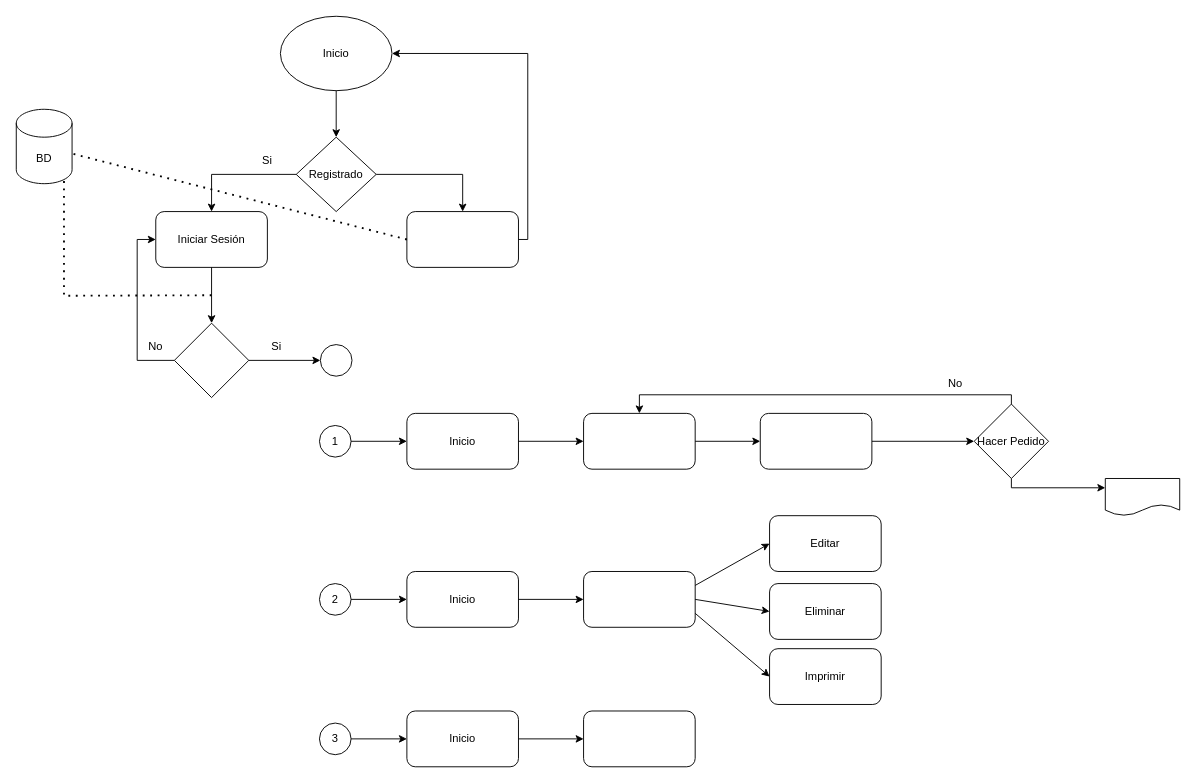
Some shapes in this 1196 by 783 pixel diagram are drawn without their labels. Each missing label, with the box of its shape:
Agregar Productos: (583, 710, 695, 767)
Comprar Producto: (759, 412, 872, 469)
Datos Correctos: (173, 322, 249, 398)
Recibo: (1104, 478, 1180, 516)
Registrarse: (406, 211, 518, 267)
Registro de Ventas: (583, 571, 695, 627)
Visualizar Productos: (583, 412, 695, 469)
